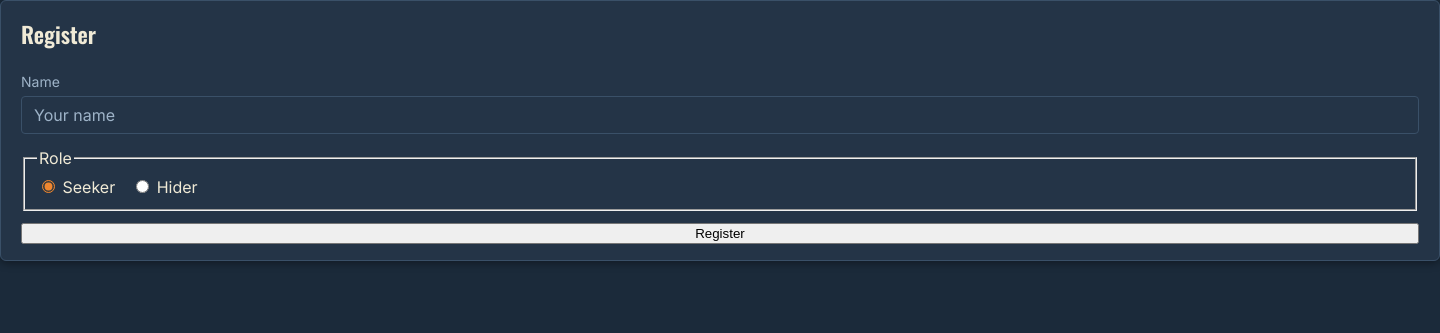
PlayerForm › shows error when submitting with empty name
The image size is (1440, 333).
Step 1. Click the button "Register" → [720, 234], box [21,223,1419,244]
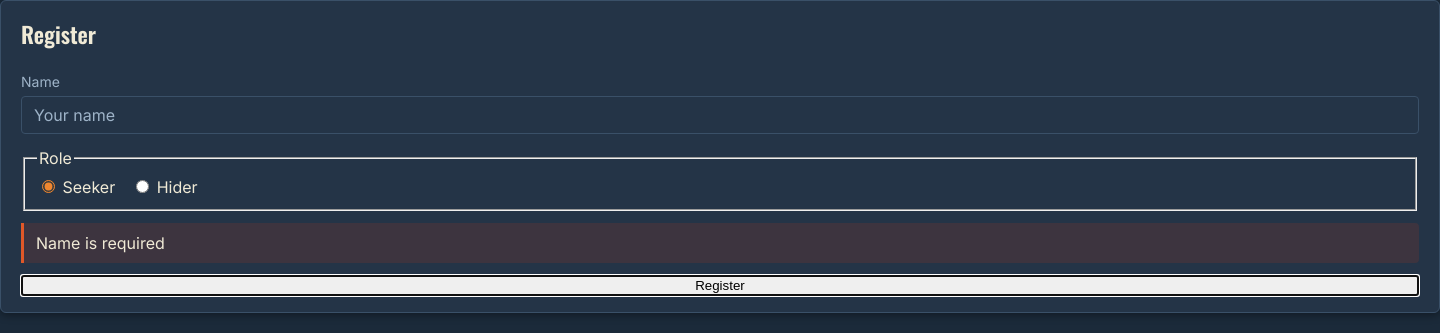
Expected: the message reads "Name is required", [36,233,165,253]
